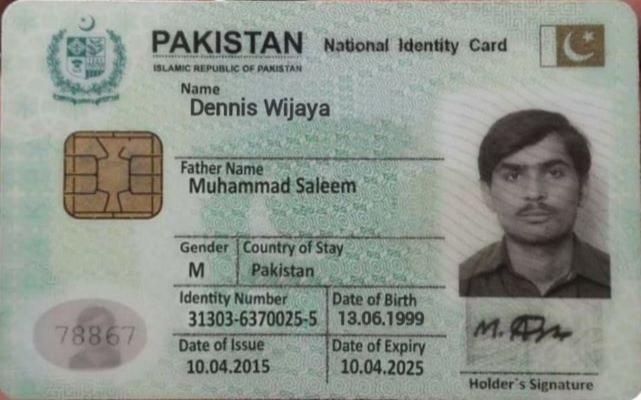fname: (186, 173, 360, 198)
name: (185, 94, 335, 125)
number: (183, 307, 321, 331)
